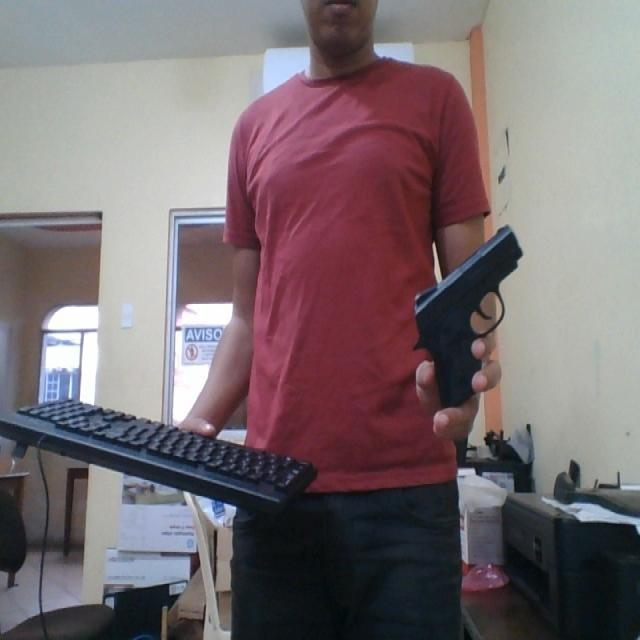weapon: (412, 224, 524, 412)
